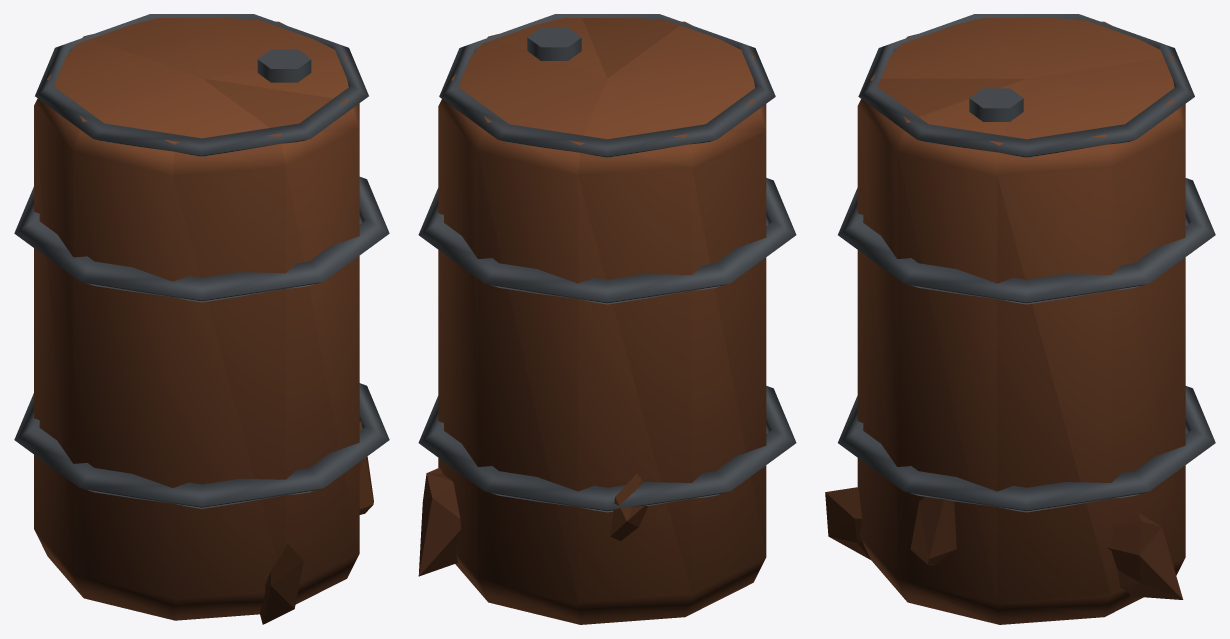
Rendered from oil-drum.glb.
3 views of the same model, side by side, from view 1: azimuth 30°, elevation 25°; view 2: azimuth 150°, elevation 25°; view 3: azimuth 270°, elevation 25° (orthographic).
Visible parts, largest first — view 1: oil_drum; view 2: oil_drum; view 3: oil_drum.
Part boxes in pixels (box(x1,y1,x2,y2)): oil_drum: box(14, 14, 389, 624); oil_drum: box(418, 14, 796, 624); oil_drum: box(825, 14, 1215, 624).
Bounding box in the file's own units: 0.6168 × 0.9201 × 0.6471.
